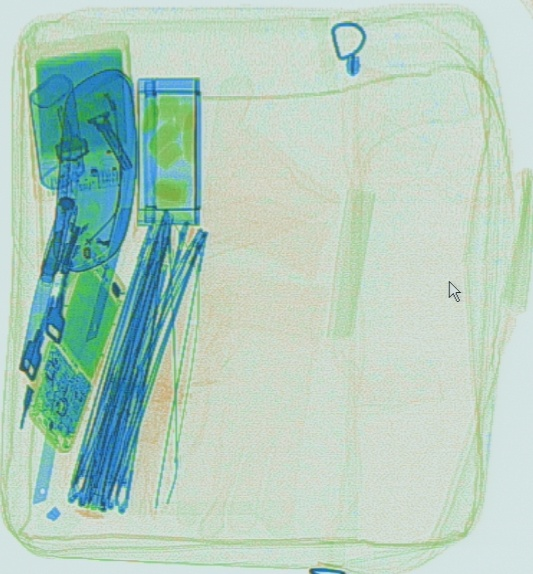knife: (83, 204, 132, 341), (29, 398, 60, 505)
